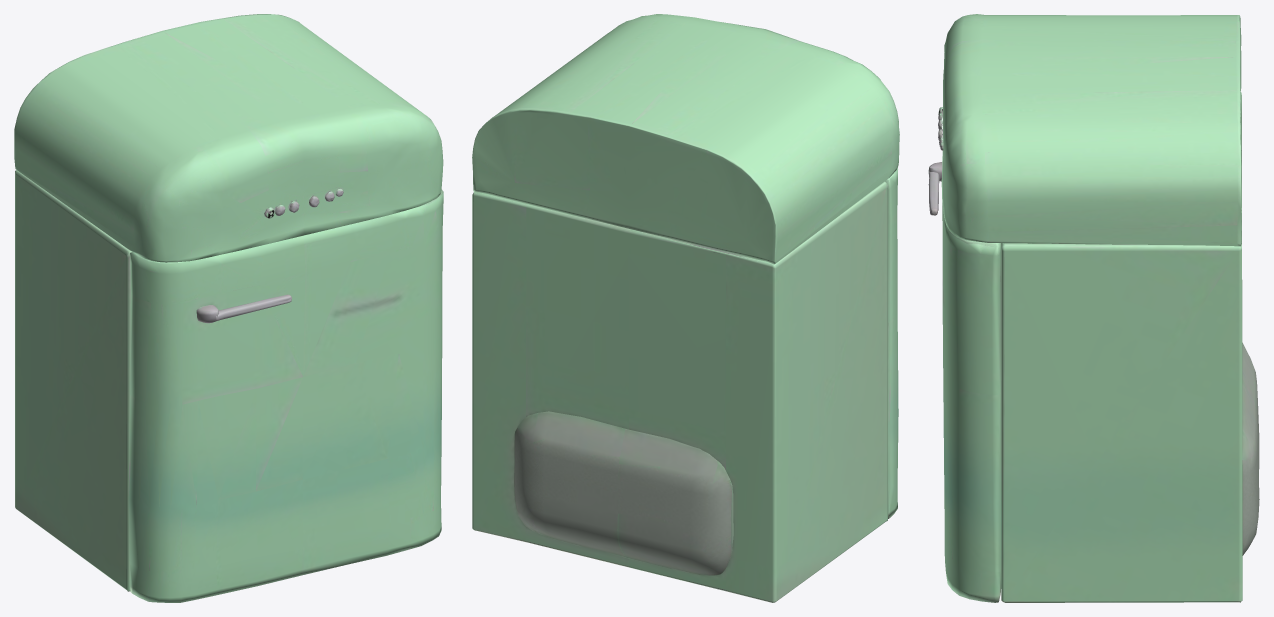
File: fridge.glb
3 views of the same model, side by side, from view 1: azimuth 30°, elevation 25°; view 2: azimuth 150°, elevation 25°; view 3: azimuth 270°, elevation 25° (orthographic). The views are drawn at different scales.
Bounding box in the file's own units: 0.7245 × 1 × 0.6445.
Materials: 1 (1 with a texture image).
